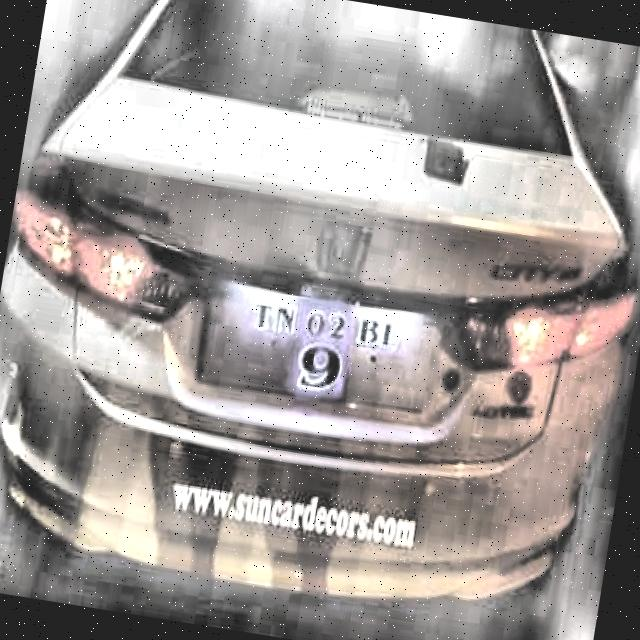license_plate: (202, 279, 443, 421)
